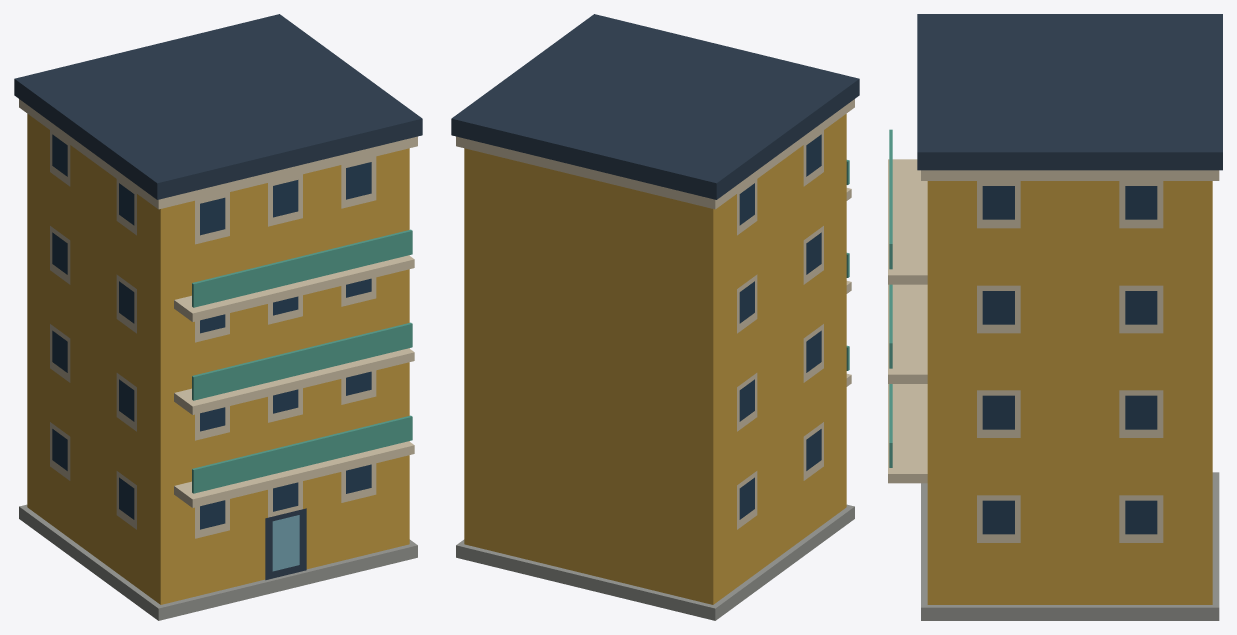
File: apartment-sun.glb
The picture shows the model from 3 angles, left to right: view 1: azimuth 30°, elevation 25°; view 2: azimuth 150°, elevation 25°; view 3: azimuth 270°, elevation 25°; orthographic projection. The views are drawn at different scales.
Visible parts, largest first — view 1: asset_root; view 2: asset_root; view 3: asset_root.
Boxes of the visible parts, x1=… form: asset_root: x1=14, y1=14, x2=422, y2=620; asset_root: x1=451, y1=14, x2=859, y2=620; asset_root: x1=888, y1=14, x2=1222, y2=620.
Bounding box in the file's own units: 4.48 × 7.09 × 4.58.
